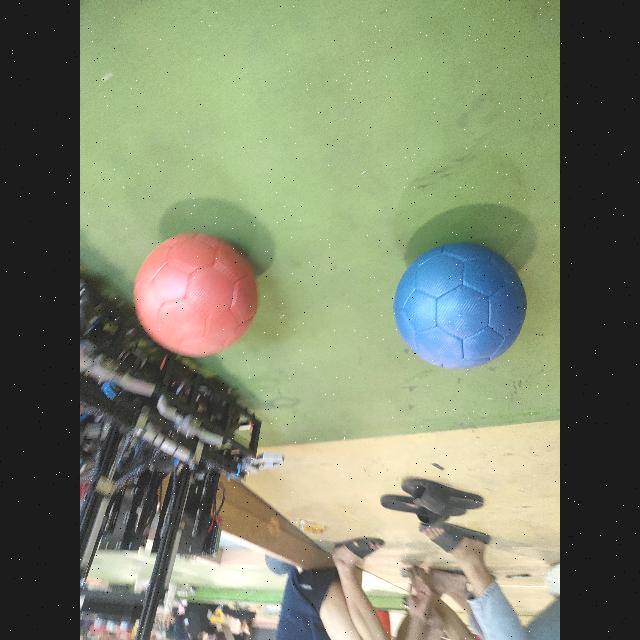B: (394, 244, 527, 369)
R: (134, 234, 258, 356)
